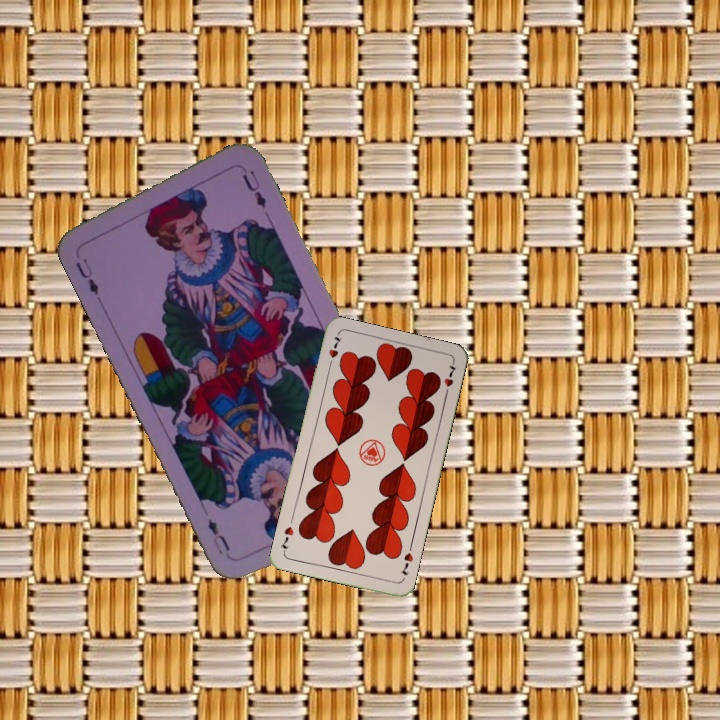EU: (71, 254, 102, 298)
H7: (324, 332, 344, 371), (397, 549, 416, 578)
